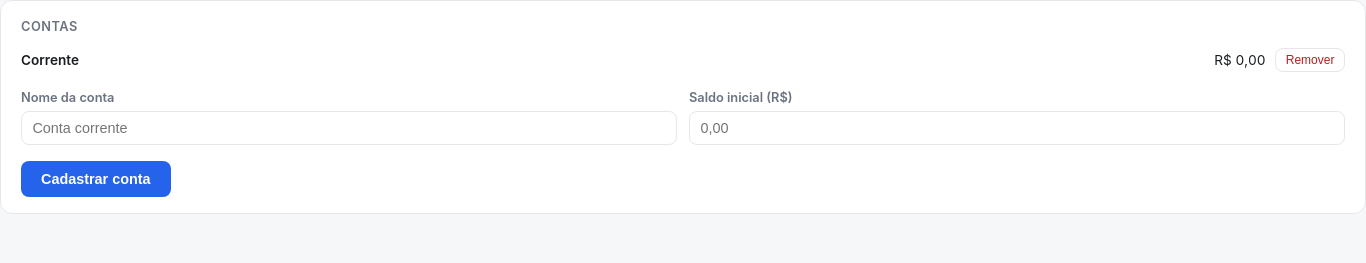
Test case: AccountsPanel › traduz o 409 de nome repetido numa mensagem legível
In the field labelled "Nome da conta": (349, 128) [21,111,677,145], type "corrente"
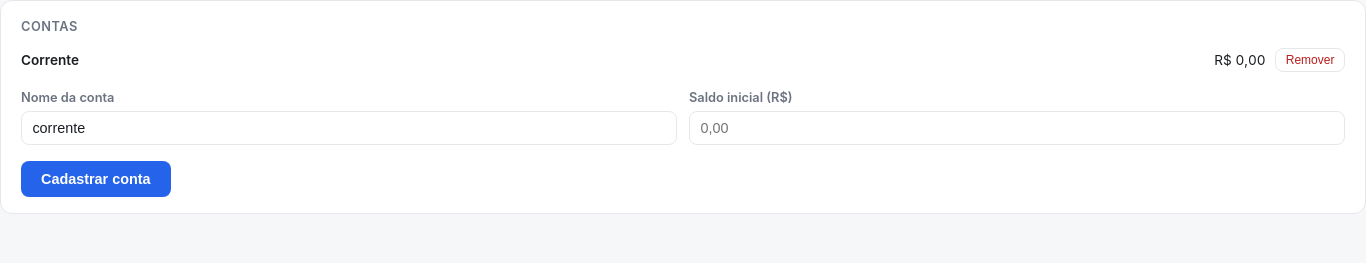
Click the button "Cadastrar conta": (96, 179) [21,161,171,197]
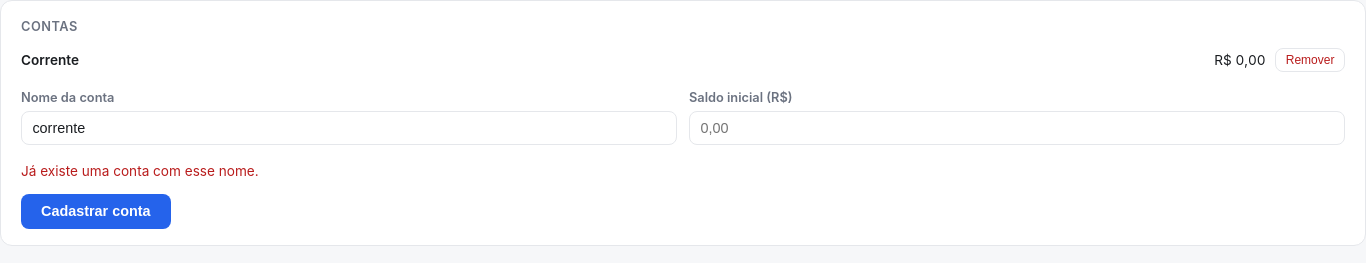
expect the message reads "Já existe uma conta com esse nome.": met, box [21,163,259,179]
